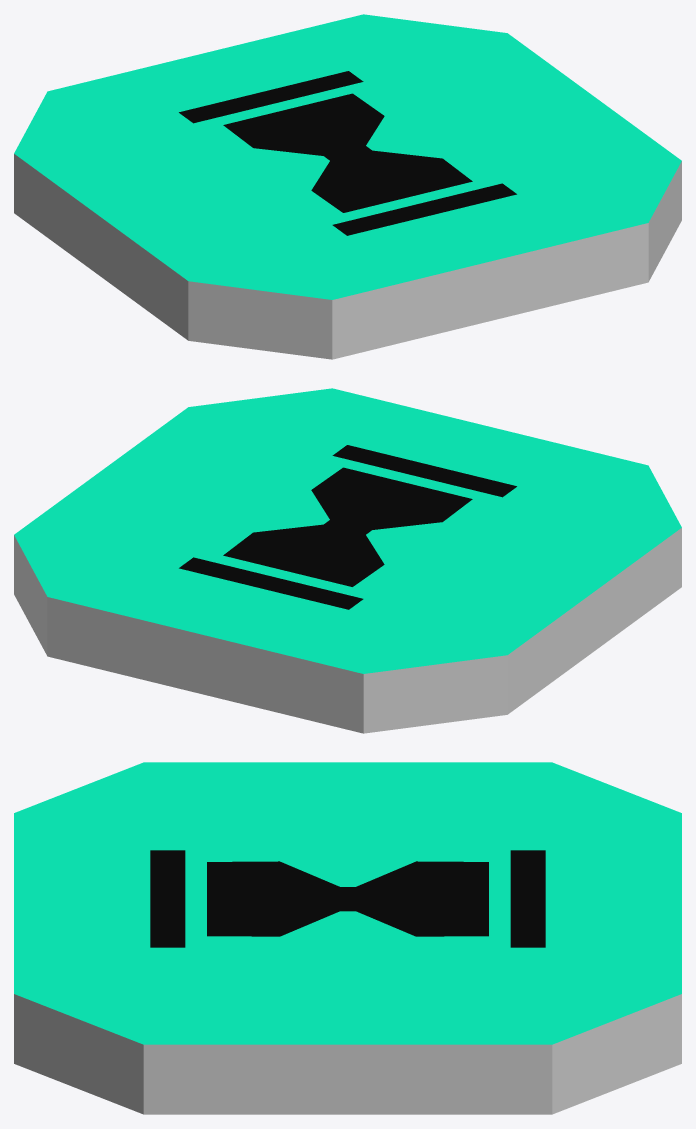
The model's file is prizeHG.glb.
3 views of the same model, one above another, from view 1: azimuth 30°, elevation 25°; view 2: azimuth 150°, elevation 25°; view 3: azimuth 270°, elevation 25° (orthographic). The views are drawn at different scales.
Parts seen in each view (by area): view 1: prize, icon; view 2: prize, icon; view 3: prize, icon.
Boxes of the visible parts, x1,y1,x2,y2 form: prize: (14,14,681,359); icon: (179,71,516,235); prize: (14,388,681,733); icon: (179,445,516,609); prize: (14,762,681,1114); icon: (150,850,545,947).
Size of the model in its own units: 4.29 by 0.5268 by 4.29.
